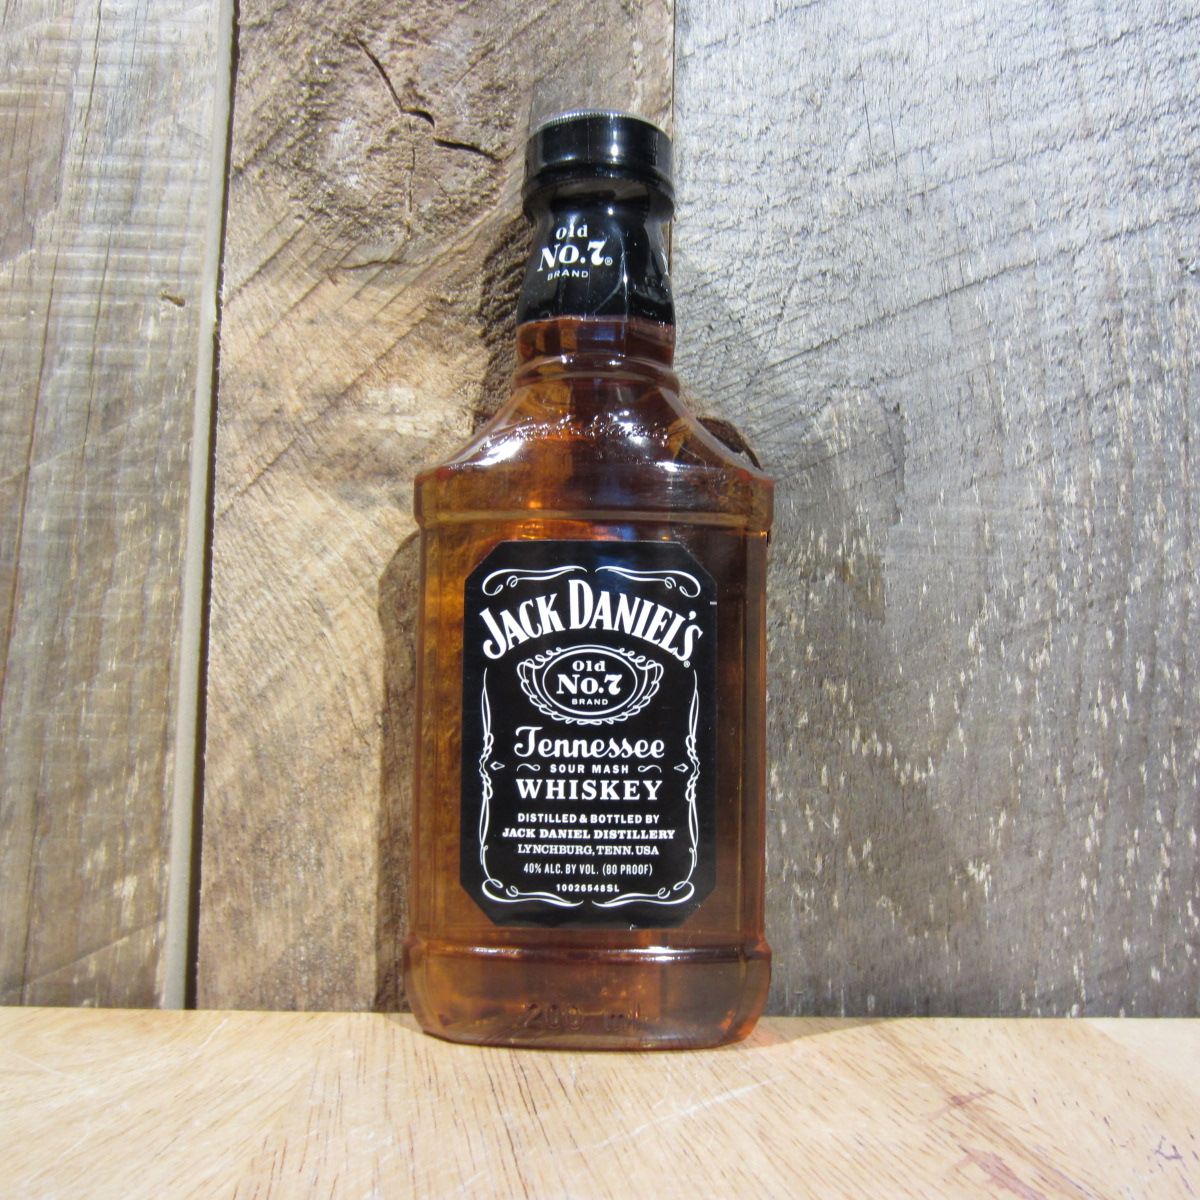Jack Daniel: (378, 102, 803, 1076)
